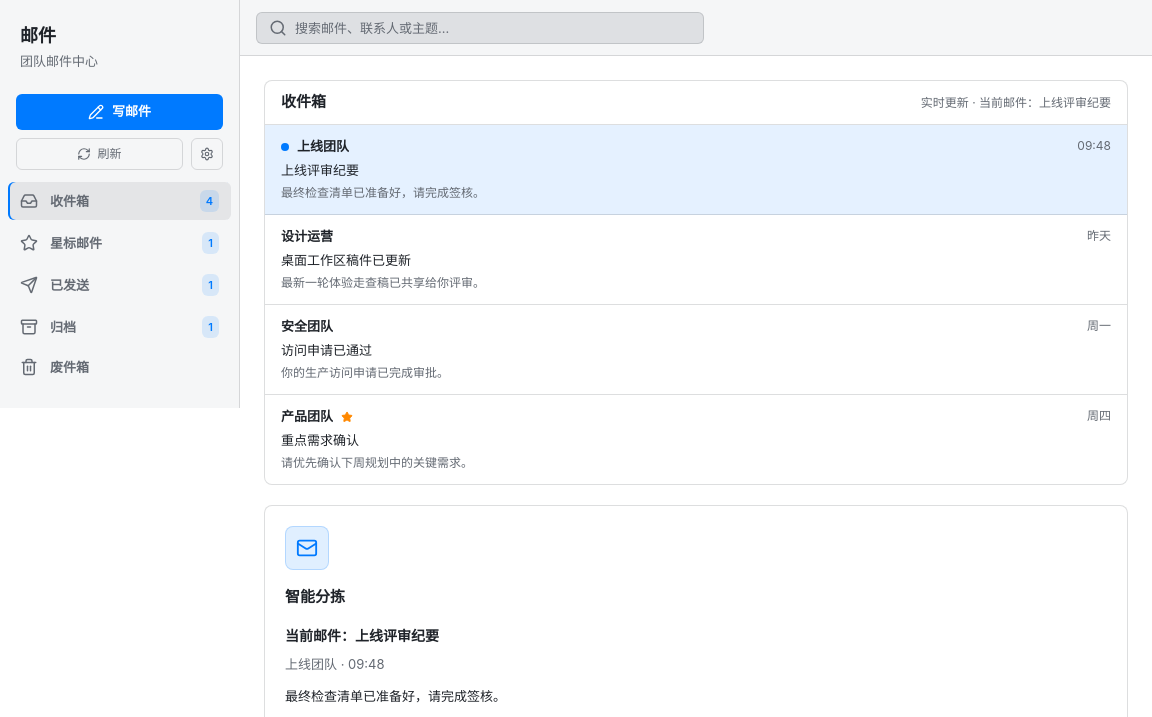
Test: workspace secondary pages › lets mail search, folder navigation, and compose work locally
This screenshot has width=1152, height=717.
Type "设计" into the field with test id "email-search-input".
click(493, 28); type("设计")  # box [295,12,691,42]
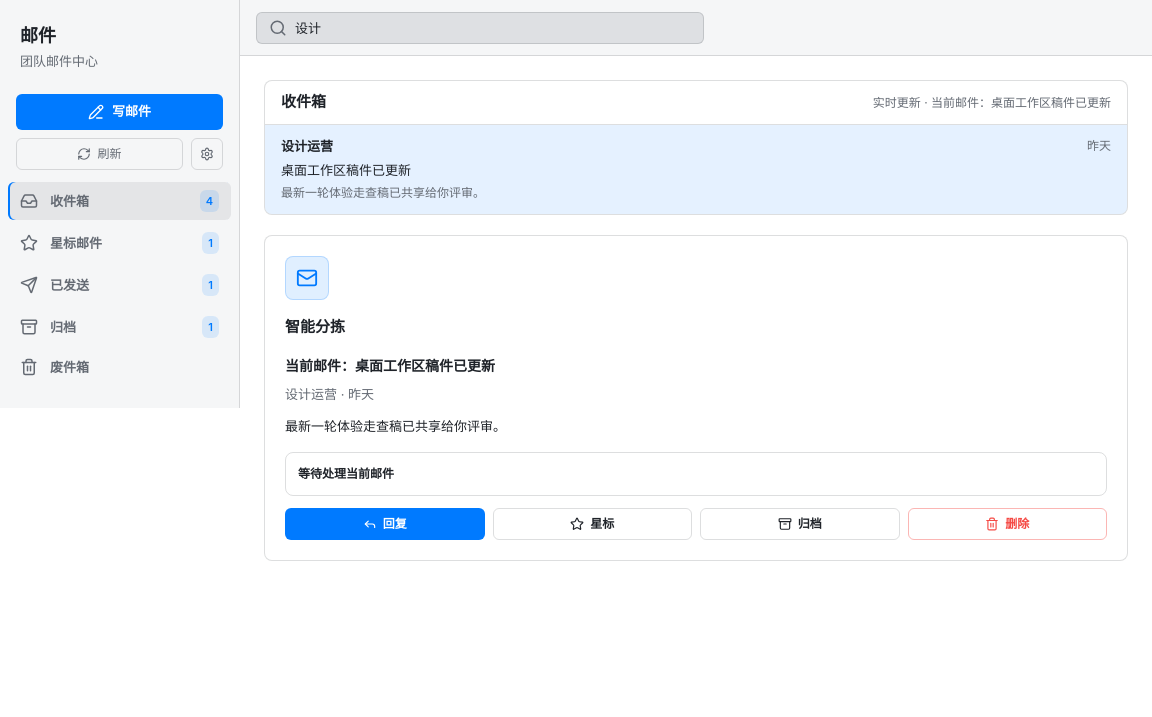
Check: the text "桌面工作区稿件已更新" is shown, box [924,94,1111,110]
Check: the text "上线评审纪要" is gone
Click the button with test id "email-folder-sent".
click(120, 285)  # box [8,266,231,304]
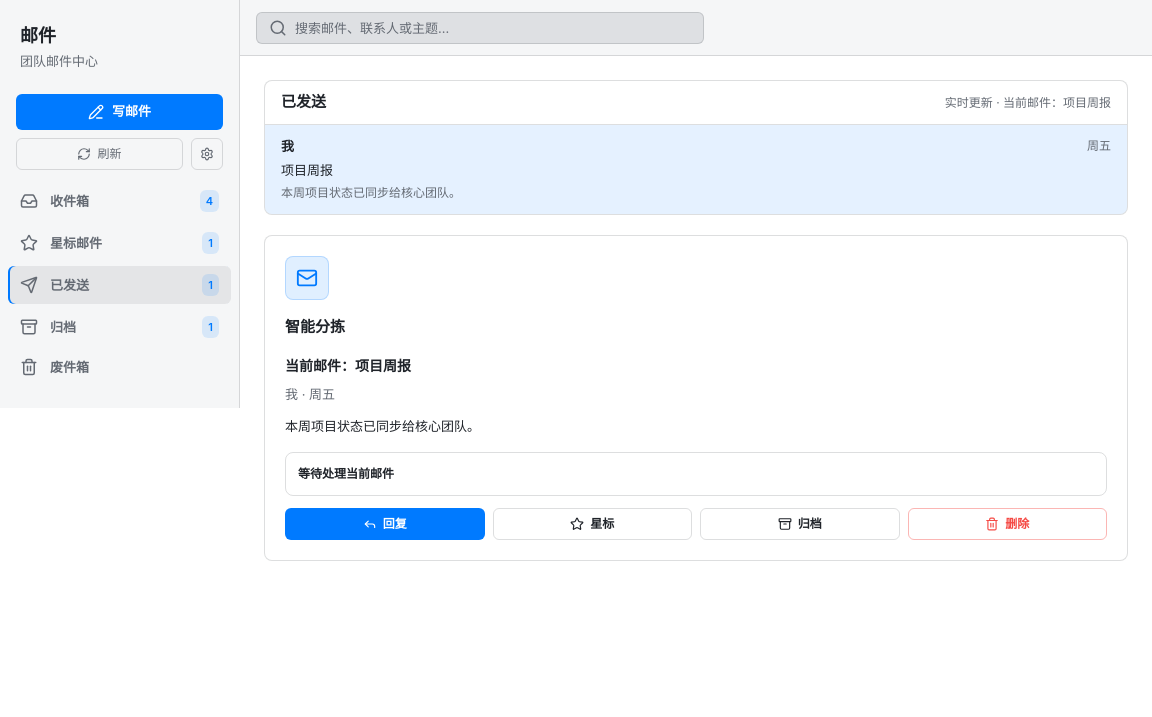
Check: the text "已发送" is shown, box [50,277,89,293]
Check: the text "项目周报" is shown, box [996,94,1111,110]
Click the button with test id "email-compose".
click(120, 112)  # box [16,94,223,130]
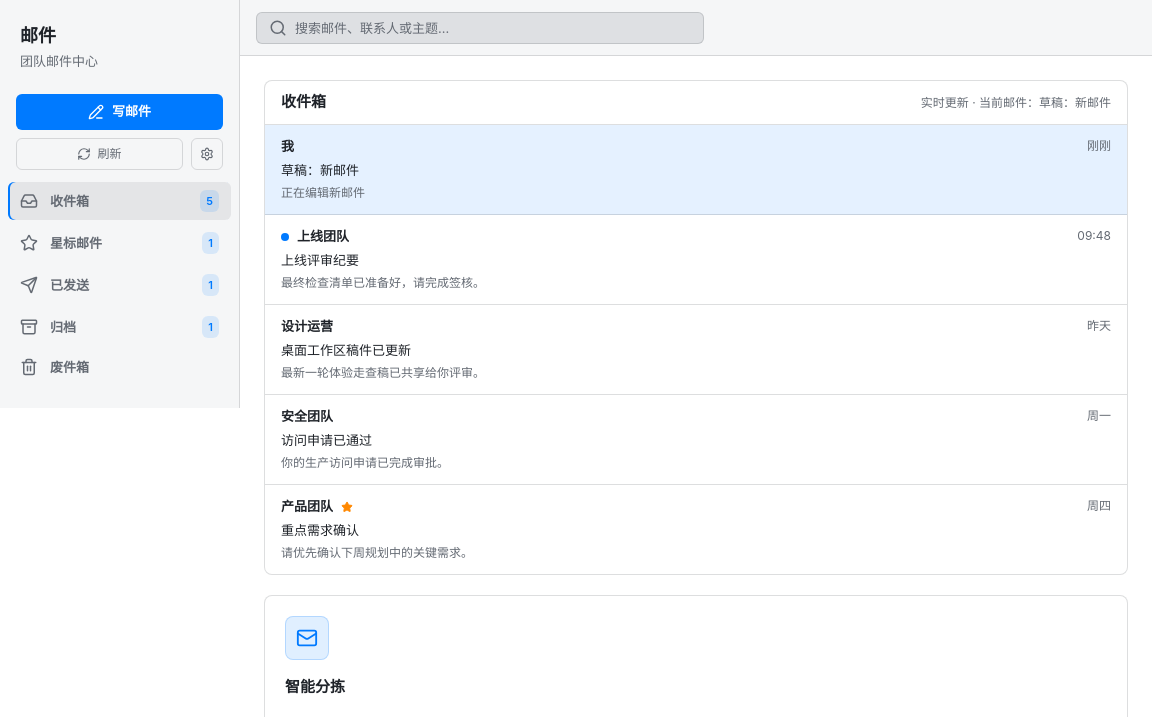
Check: the text "草稿：新邮件" is shown, box [972,94,1111,110]
